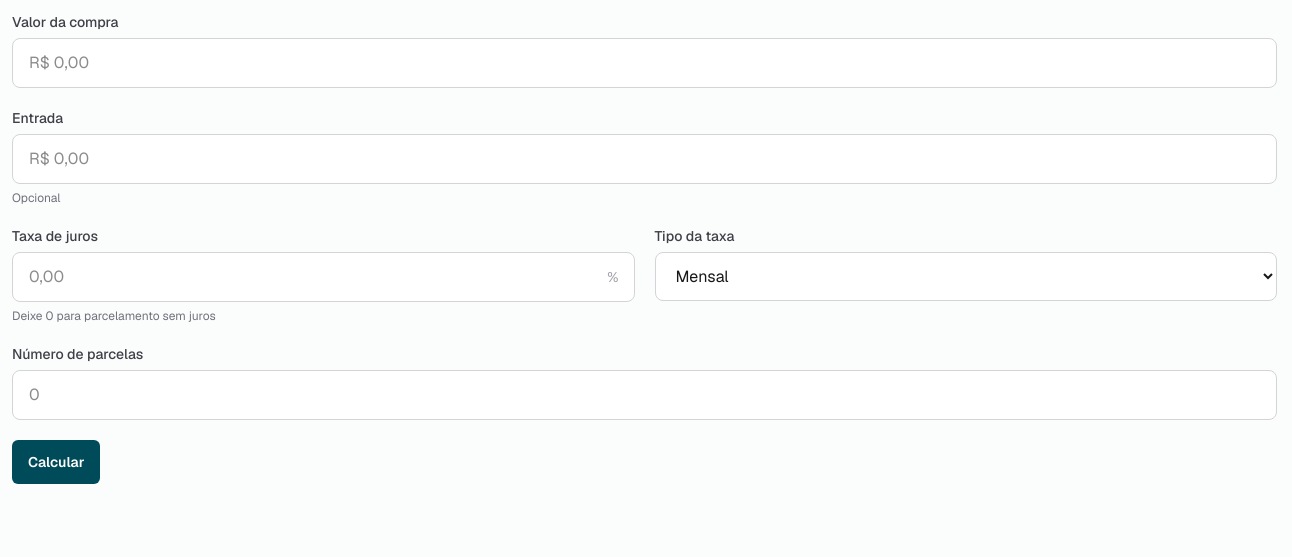
Test: ParcelamentoTool — validações › limpa a mensagem de erro assim que o campo é corrigido (regressão)
Click the button "Calcular" at (56, 462), box [12,440,100,484]
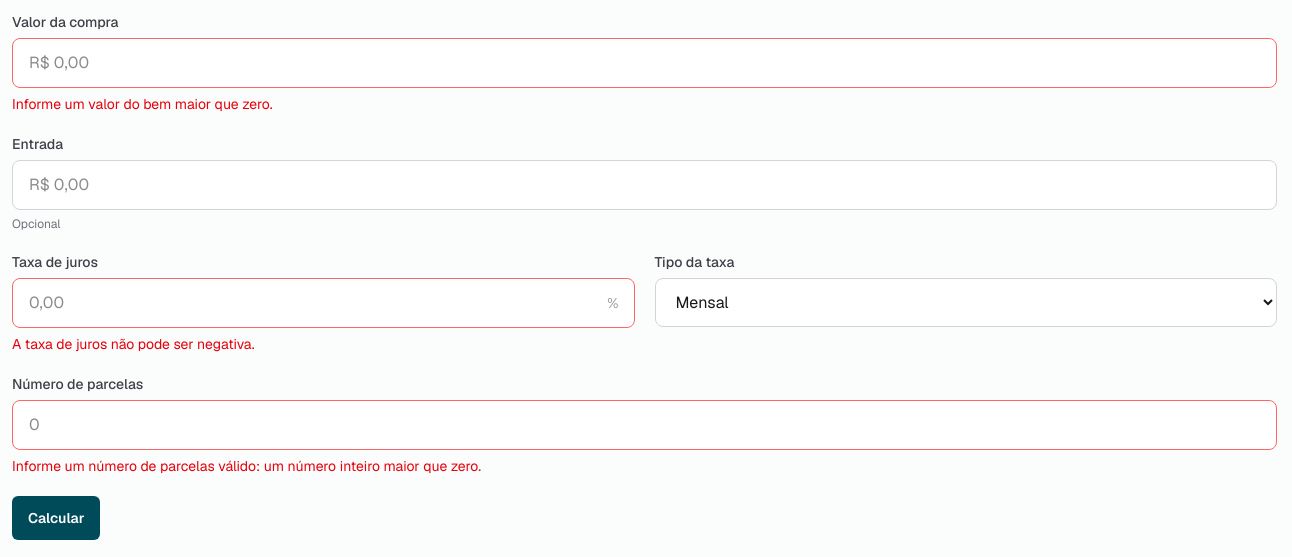
expect the text "Informe um valor do bem maior que zero." is shown: met, box [12,95,273,113]
Type "1000000" into the field labelled "Valor da compra" at (644, 63), box [12,38,1277,88]
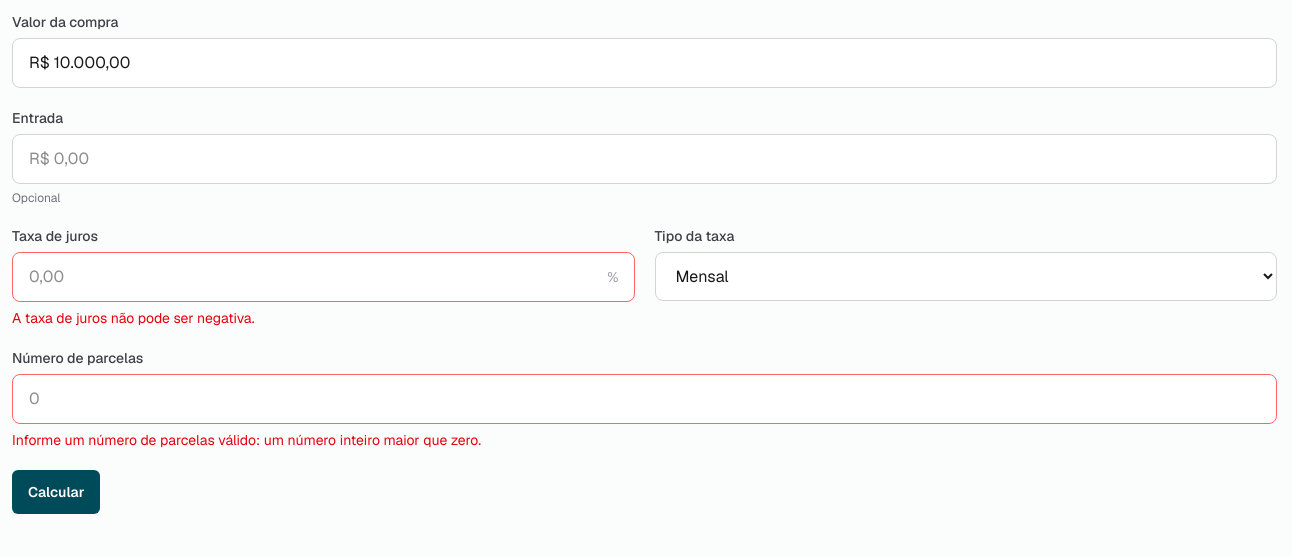
expect the text "Informe um valor do bem maior que zero." is gone: met
